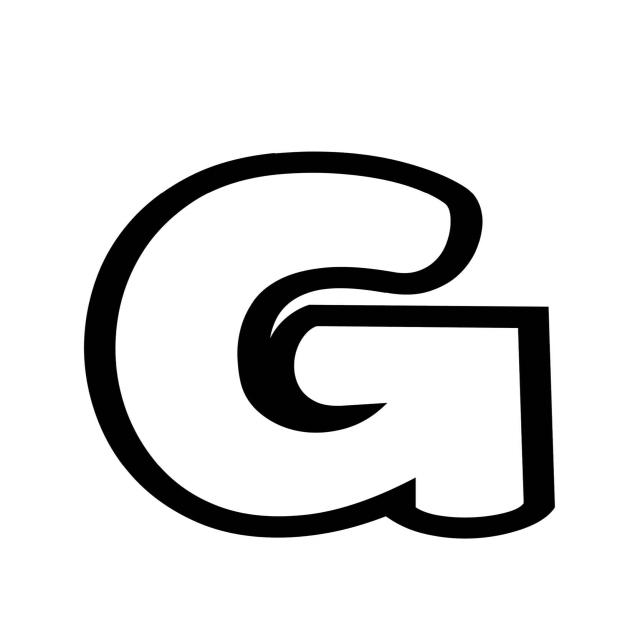G: (42, 84, 577, 571)
